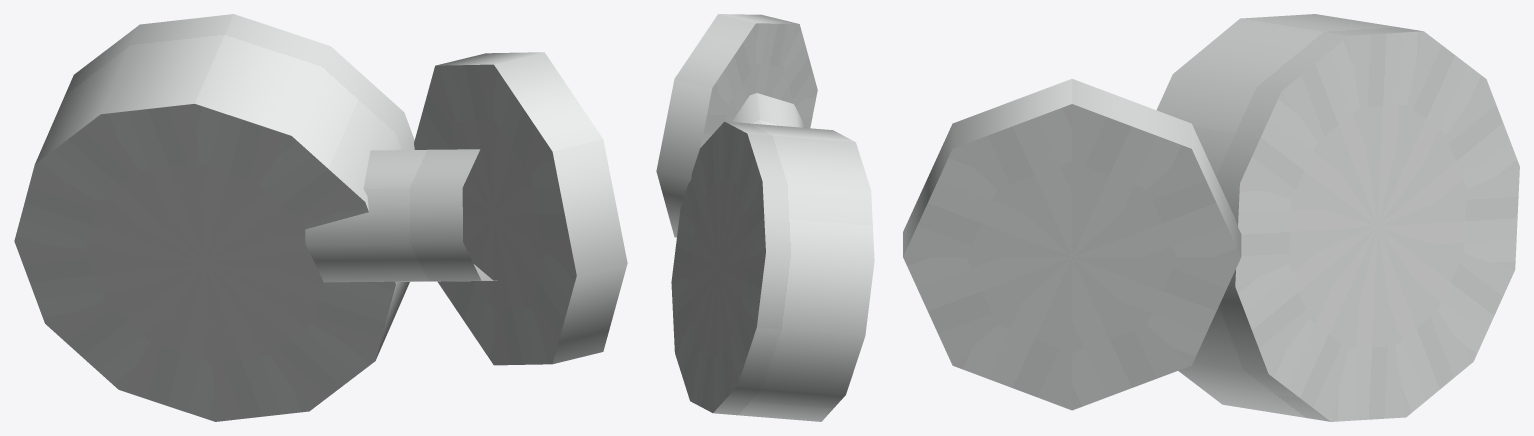
Rendered from nycsignalarm_stub_192.obj.
The picture shows the model from 3 angles, left to right: view 1: azimuth 30°, elevation 25°; view 2: azimuth 150°, elevation 25°; view 3: azimuth 270°, elevation 25°; orthographic projection. The views are drawn at different scales.
Parts seen in each view (by area): view 1: nycsignalarm_stub_192; view 2: nycsignalarm_stub_192; view 3: nycsignalarm_stub_192.
Part boxes in pixels (x1,y1,x2,y2): nycsignalarm_stub_192: [14, 14, 627, 421]; nycsignalarm_stub_192: [656, 14, 874, 421]; nycsignalarm_stub_192: [903, 14, 1519, 421].
Bounding box in the file's own units: 0.4432 × 0.4623 × 0.6383.
